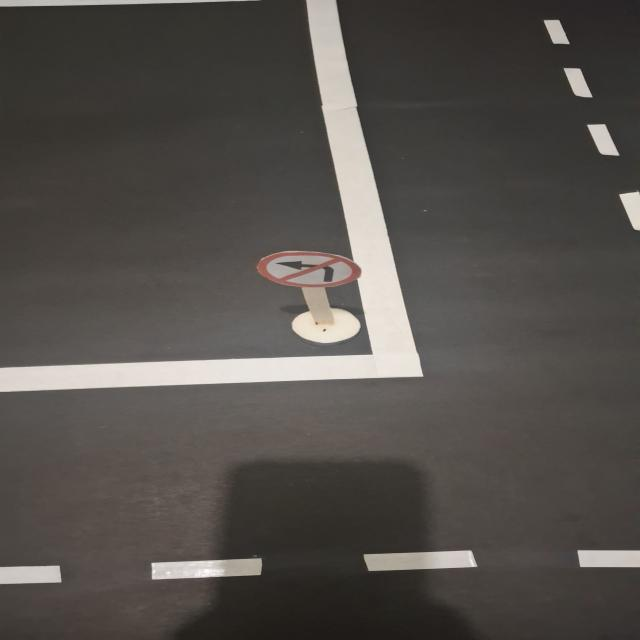Dilarang Belok Kiri: (257, 252, 362, 287)
